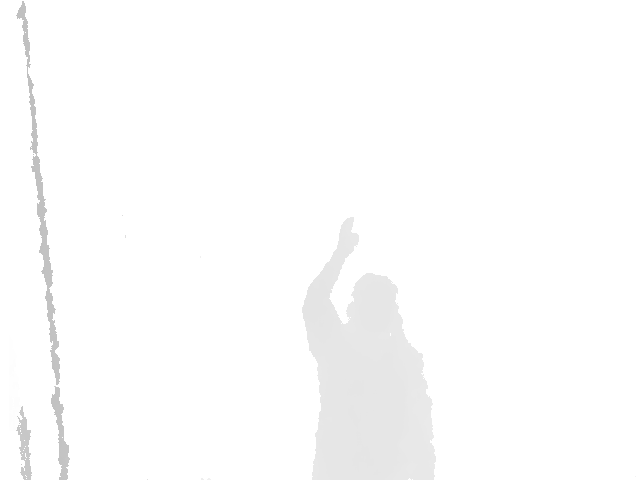hand: (338, 216, 360, 262)
head: (346, 273, 403, 357)
person: (301, 216, 438, 480)
